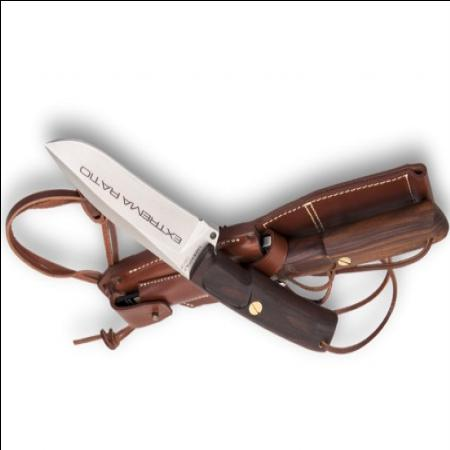long weapon: (34, 130, 228, 292)
